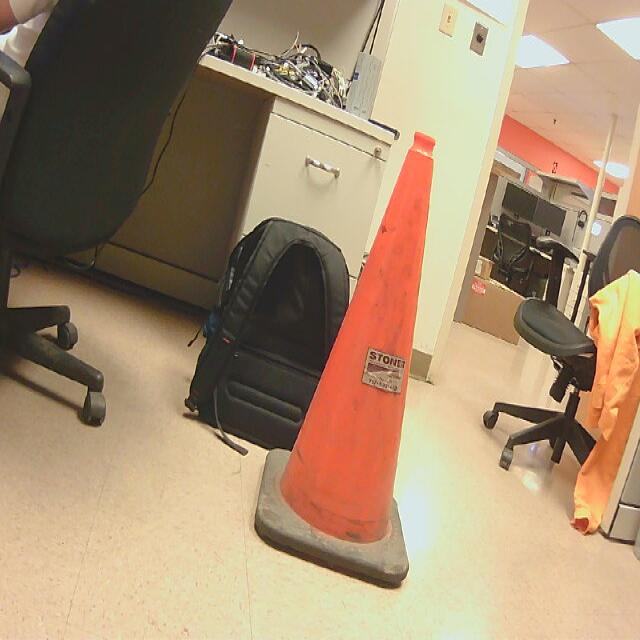traffic cone: (255, 133, 437, 593)
